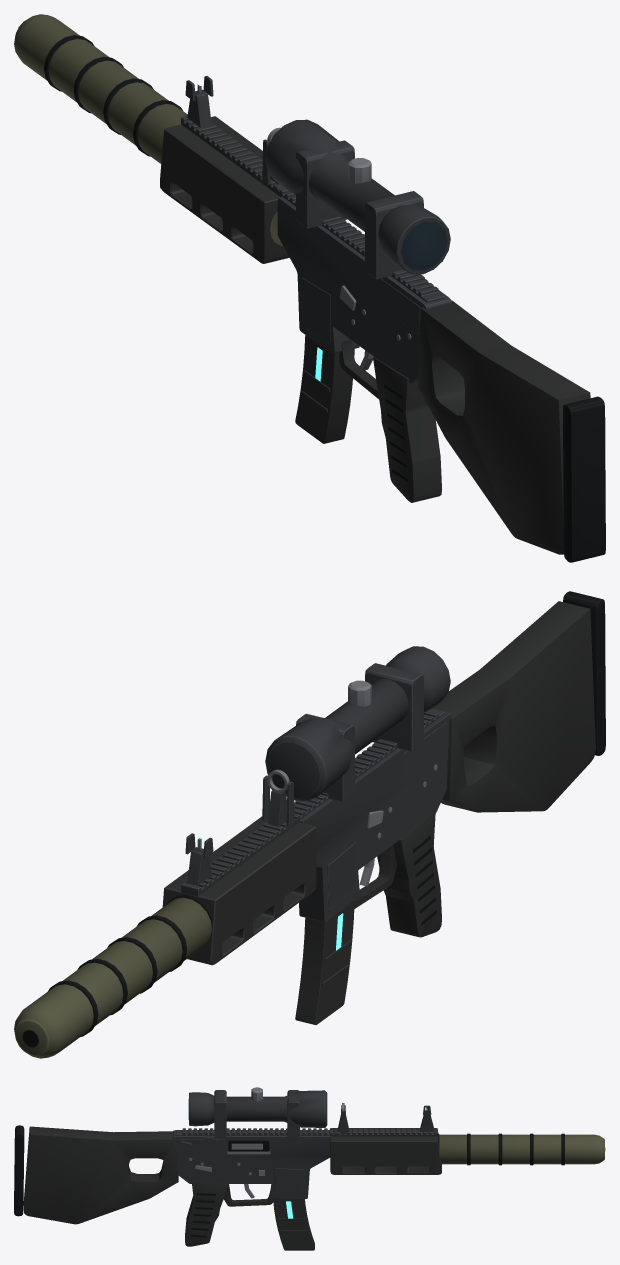
Rendered from silent.glb.
3 views of the same model, one above another, from view 1: azimuth 30°, elevation 25°; view 2: azimuth 150°, elevation 25°; view 3: azimuth 270°, elevation 25° (orthographic). The views are drawn at different scales.
Parts seen in each view (by area): view 1: Body, ThirdPersonOnly, IronSight, Cell; view 2: Body, ThirdPersonOnly, IronSight, Cell; view 3: Body, ThirdPersonOnly, IronSight, Cell.
Boxes of the visible parts, left/top/right/bottom form: Body: left=14, top=14, right=451, bottom=502; ThirdPersonOnly: left=418, top=300, right=605, bottom=562; IronSight: left=185, top=76, right=450, bottom=279; Cell: left=295, top=335, right=354, bottom=443; Body: left=14, top=708, right=451, bottom=1058; ThirdPersonOnly: left=432, top=591, right=605, bottom=812; IronSight: left=185, top=646, right=450, bottom=885; Cell: left=295, top=900, right=354, bottom=1024; Body: left=173, top=1128, right=605, bottom=1246; ThirdPersonOnly: left=14, top=1125, right=178, bottom=1224; IronSight: left=188, top=1087, right=434, bottom=1139; Cell: left=273, top=1198, right=314, bottom=1250.
Bounding box in the file's own units: 0.072 × 0.335 × 1.13.
